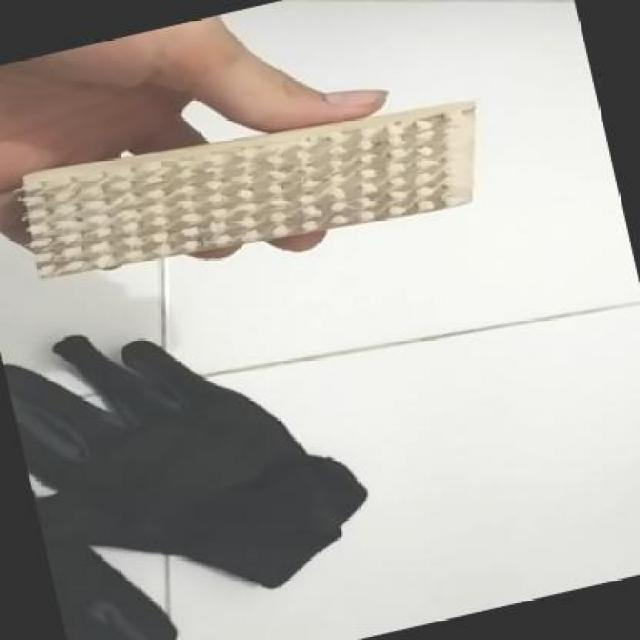glove: (1, 333, 367, 589)
